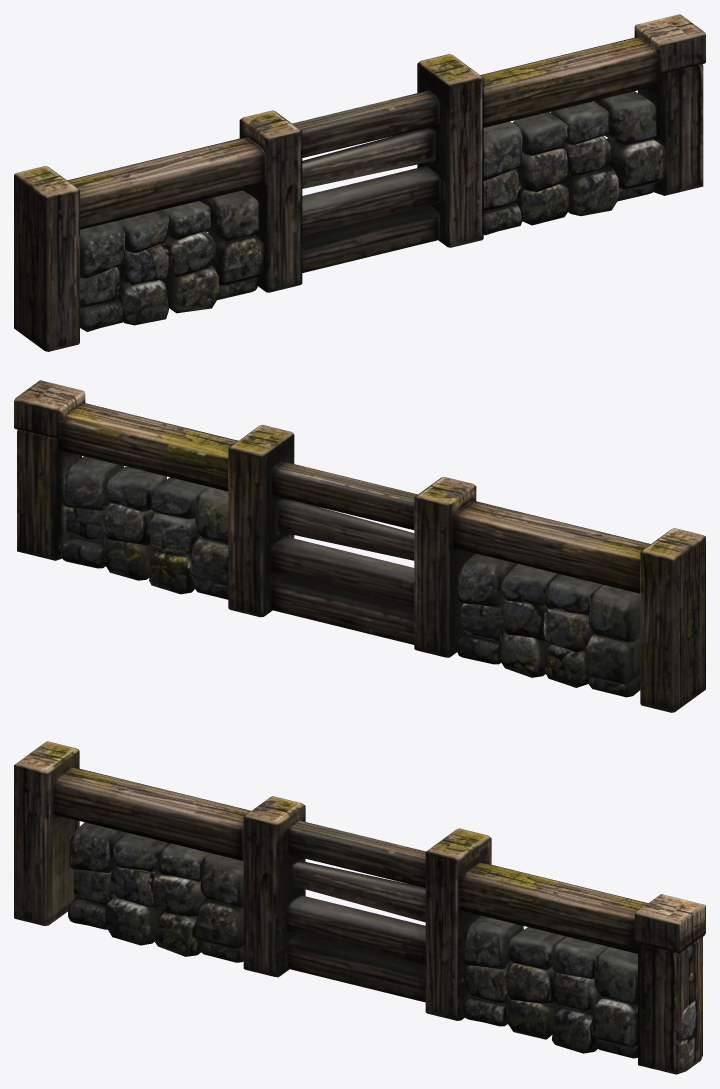
The model's file is act1_kit_v1_weir.glb.
3 views of the same model, one above another, from view 1: azimuth 30°, elevation 25°; view 2: azimuth 150°, elevation 25°; view 3: azimuth 330°, elevation 25° (orthographic).
Parts seen in each view (by area): view 1: act1_kit_v1_weir; view 2: act1_kit_v1_weir; view 3: act1_kit_v1_weir.
Boxes of the visible parts, bbox=[...] form: act1_kit_v1_weir: bbox=[14, 14, 705, 351]; act1_kit_v1_weir: bbox=[14, 380, 705, 712]; act1_kit_v1_weir: bbox=[14, 741, 705, 1074].
Bounding box in the file's own units: 1 × 0.2349 × 0.1016.
Materials: 1 (1 with a texture image).
